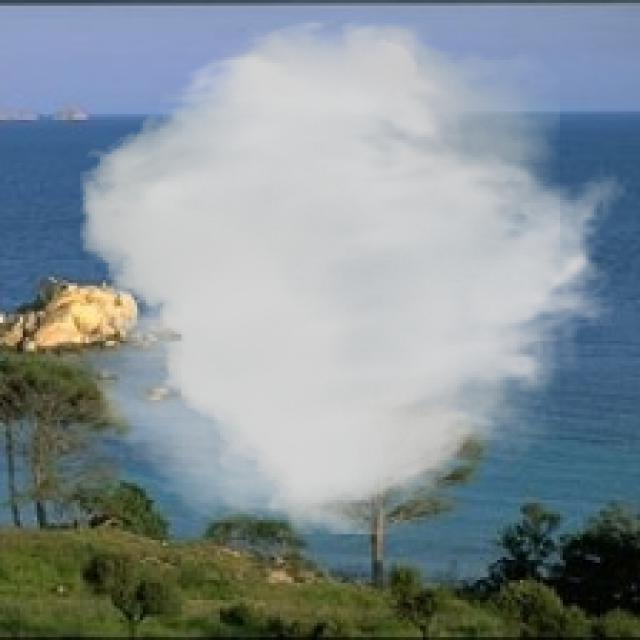Smoke: (80, 14, 629, 534)
